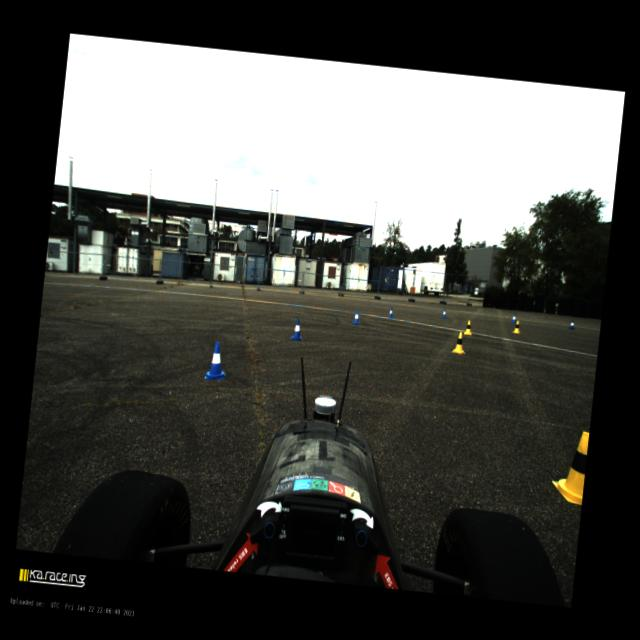blue_cone: (204, 340, 228, 380), (290, 318, 304, 341), (352, 310, 361, 326), (387, 306, 394, 318), (568, 318, 575, 329), (441, 308, 447, 318), (511, 314, 516, 322)
yellow_cone: (550, 429, 588, 505), (451, 331, 467, 354), (463, 320, 472, 334), (512, 320, 521, 333)
